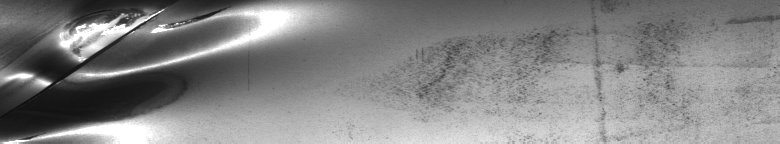ke: (4, 4, 253, 136)
